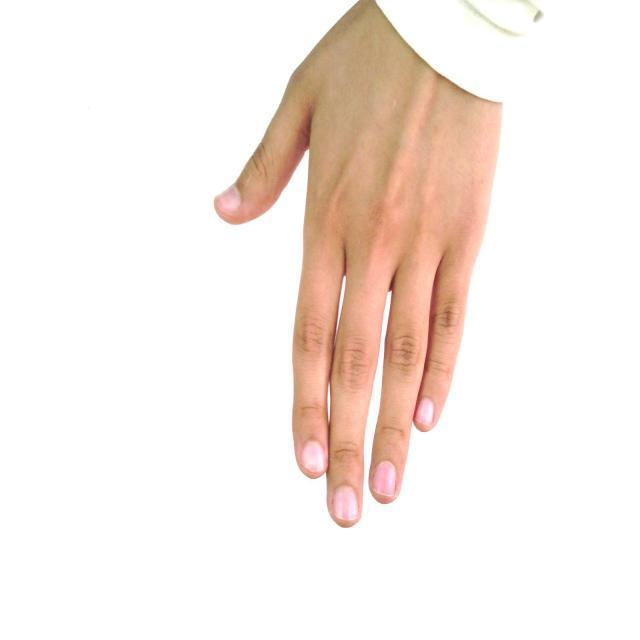Fingernail: (333, 485, 358, 520), (373, 462, 396, 496), (302, 442, 324, 472), (217, 187, 240, 214), (415, 398, 434, 425)
